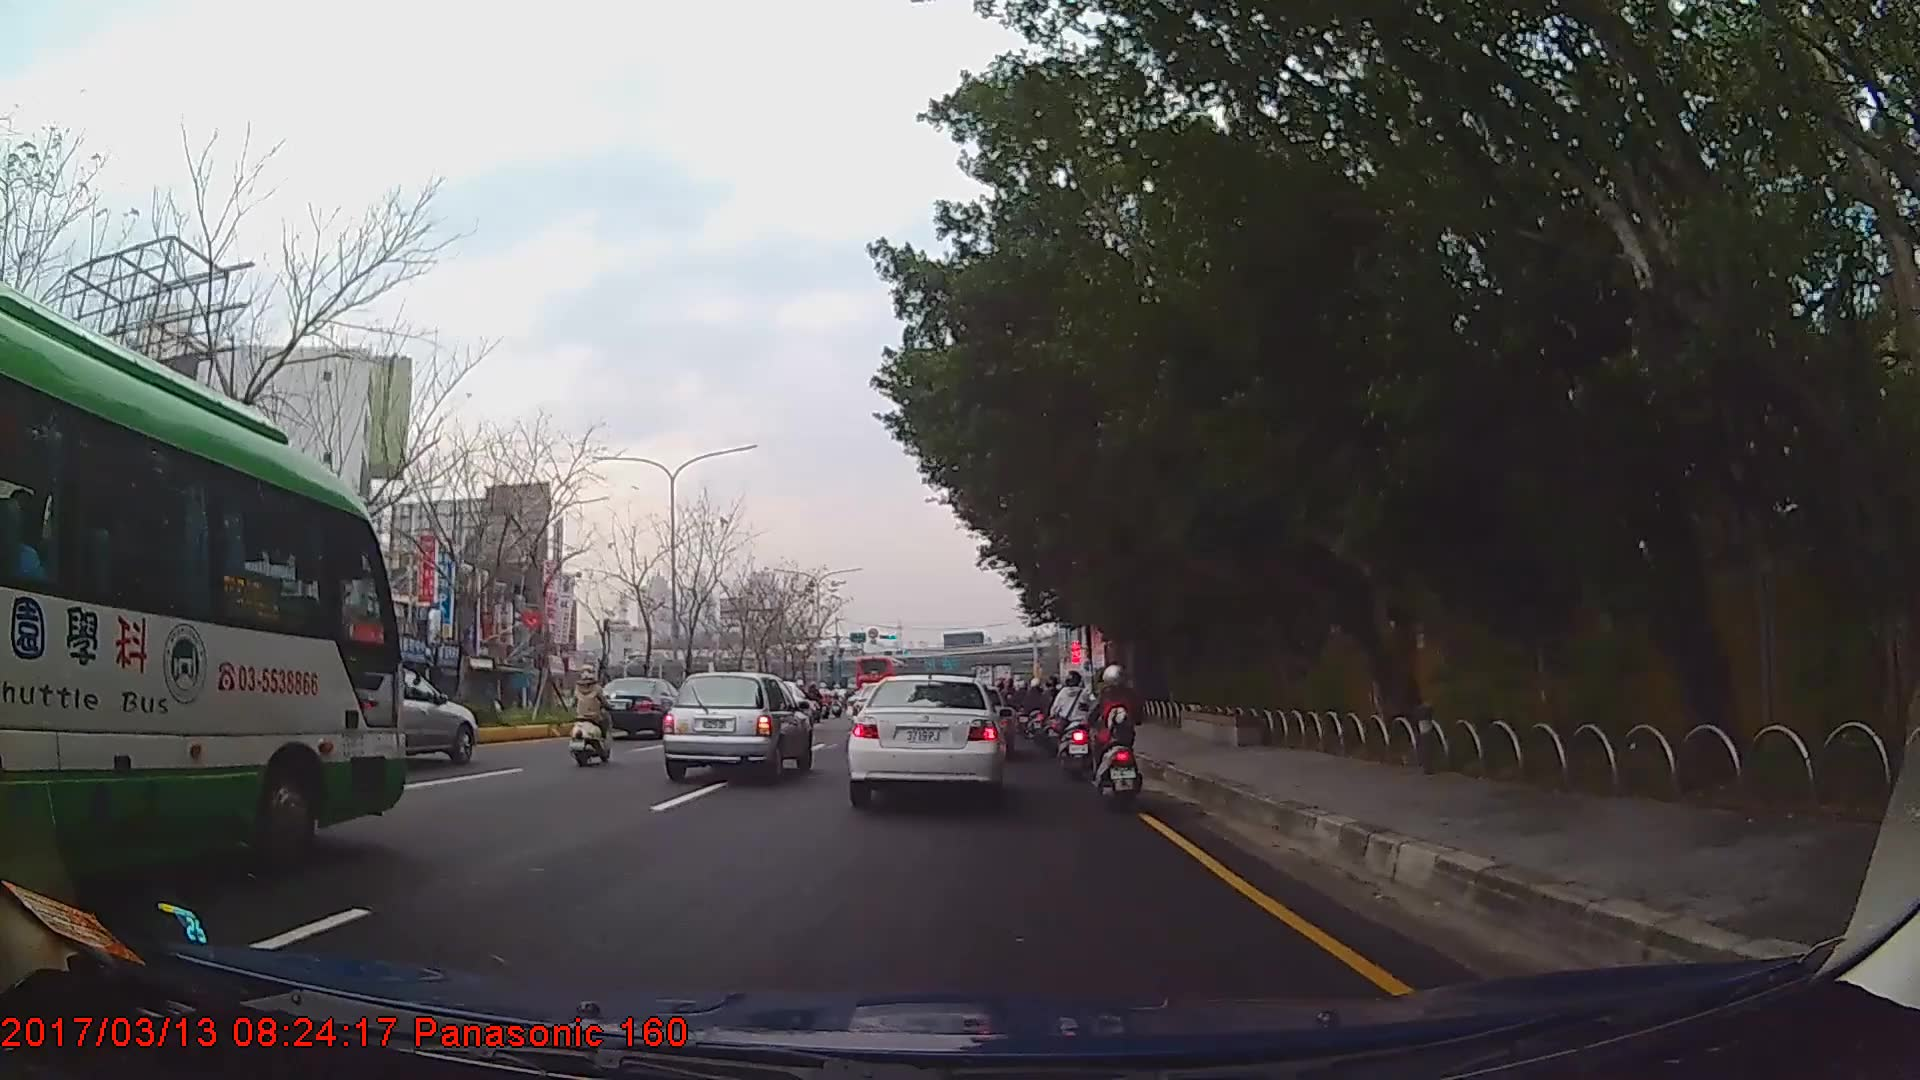rider: (1087, 658, 1150, 812), (1055, 672, 1099, 782), (572, 667, 615, 766), (1042, 674, 1066, 750)
vehicle: (0, 286, 409, 898), (843, 674, 1006, 808), (665, 670, 815, 783), (341, 666, 476, 763), (590, 676, 688, 740), (854, 651, 907, 701)
